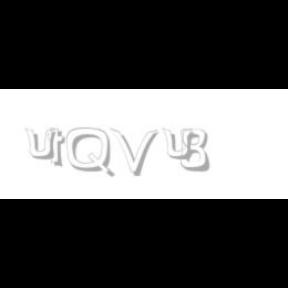8: (180, 128, 210, 172)
Q: (67, 128, 113, 178)
V: (110, 128, 158, 176)
t: (48, 128, 70, 168)
u: (24, 128, 60, 160), (162, 128, 196, 160)
